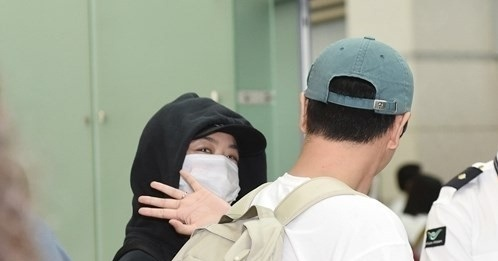face_mask: (182, 127, 241, 206)
